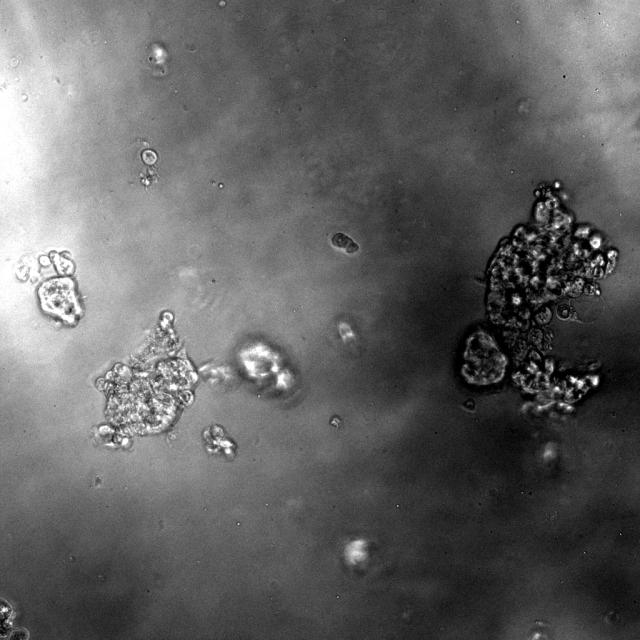organoid: (461, 180, 618, 412), (96, 311, 198, 448), (200, 333, 300, 400), (14, 250, 83, 327), (0, 598, 29, 639), (203, 424, 236, 460), (140, 148, 159, 187), (331, 232, 359, 255)
